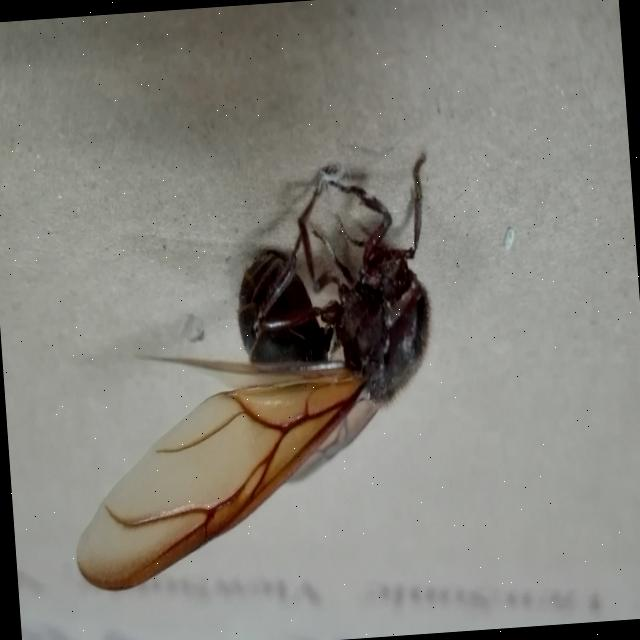Dead-Female-Alate: (48, 150, 456, 596)
